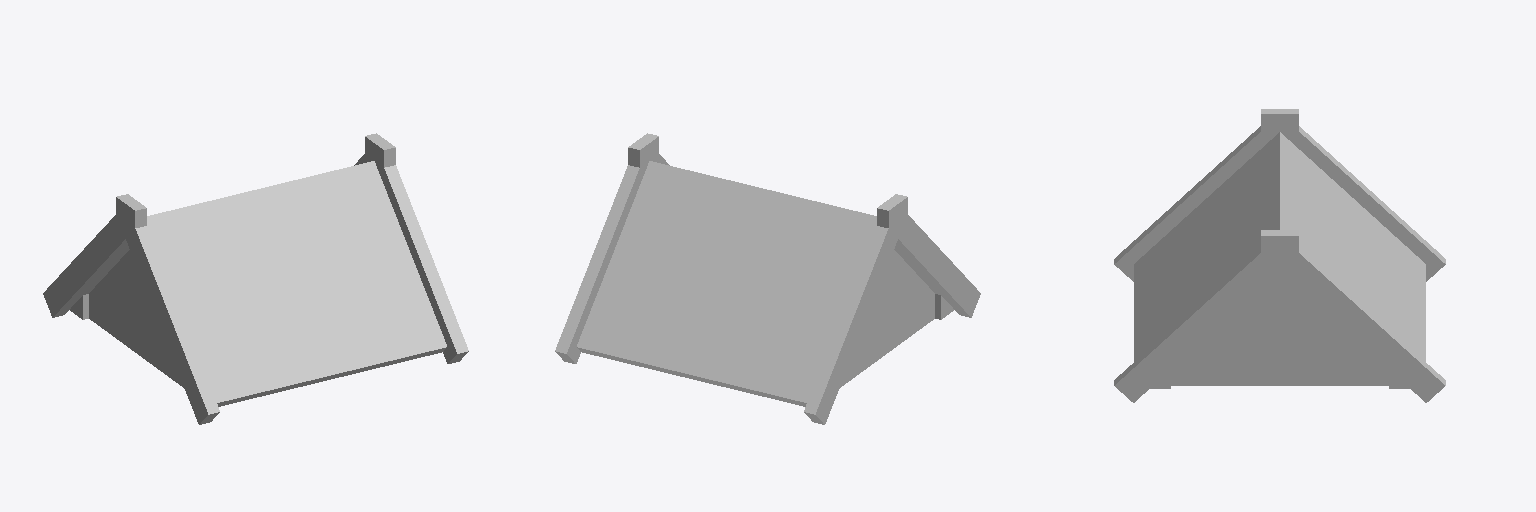
File: roof-gable-detail.obj
3 renders of one model, left to right at view 1: azimuth 30°, elevation 25°; view 2: azimuth 150°, elevation 25°; view 3: azimuth 270°, elevation 25°, orthographic.
Visible parts, largest first — view 1: roof-gable-detail; view 2: roof-gable-detail; view 3: roof-gable-detail.
Boxes of the visible parts, x1=… form: roof-gable-detail: x1=43, y1=133, x2=468, y2=424; roof-gable-detail: x1=555, y1=133, x2=980, y2=424; roof-gable-detail: x1=1114, y1=109, x2=1445, y2=402.
Size of the model in its own units: 1.1 by 0.6768 by 1.21.